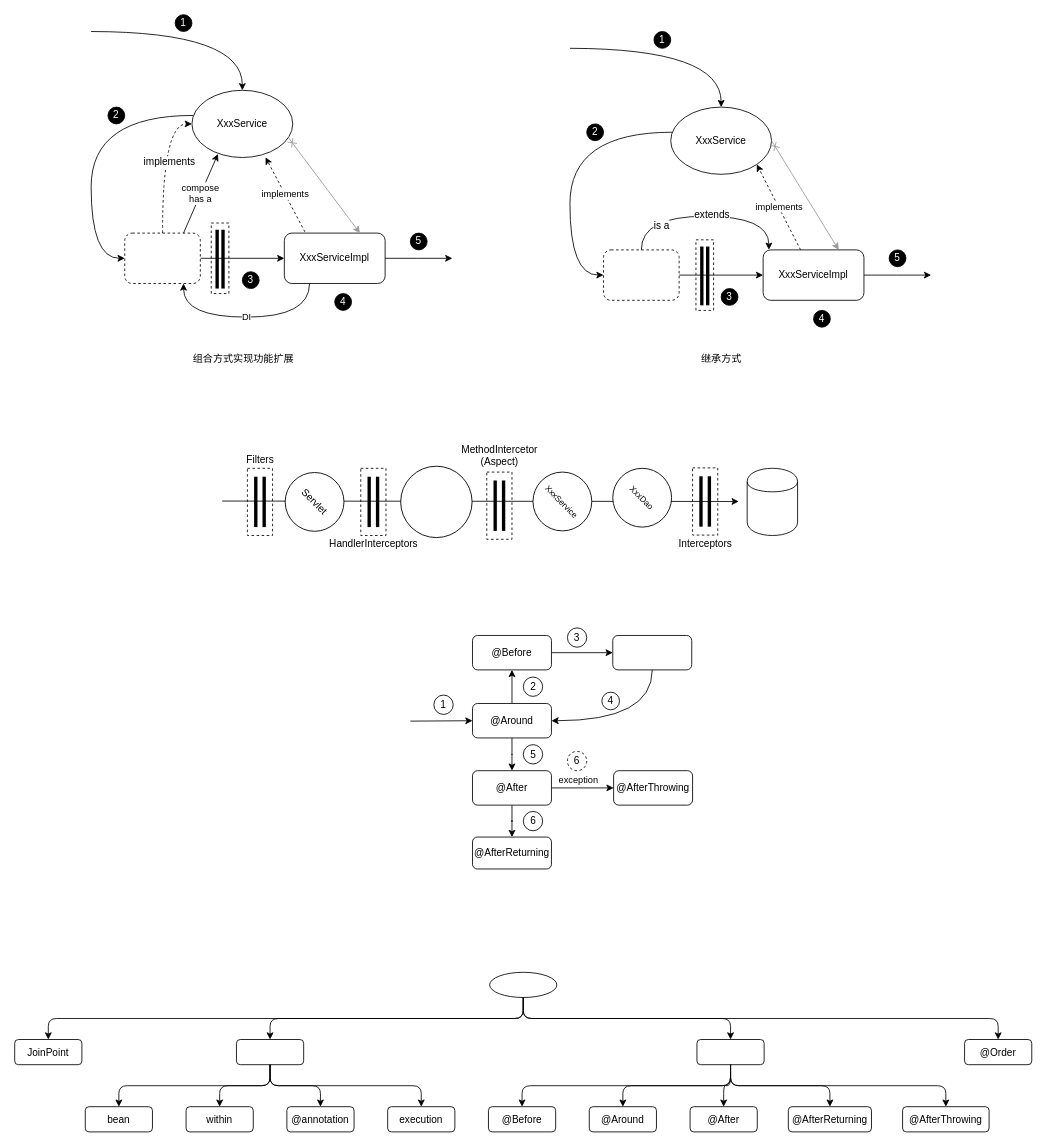
Image size: 1047x1147. Some labels were removed from this diagram. Here are the shapes that lost their labels. From the top down, the centre of each, then its label:
At point 162,258: "$Proxy35".
At point 641,274: "CGBLIB Proxy".
At point 436,501: "XxxCotroller".
At point 772,501: "DB".
At point 652,652: "TargetMethod".
At point 523,984: "@Aspect".
At point 270,1052: "@Pointcut".
At point 730,1052: "Advice".
